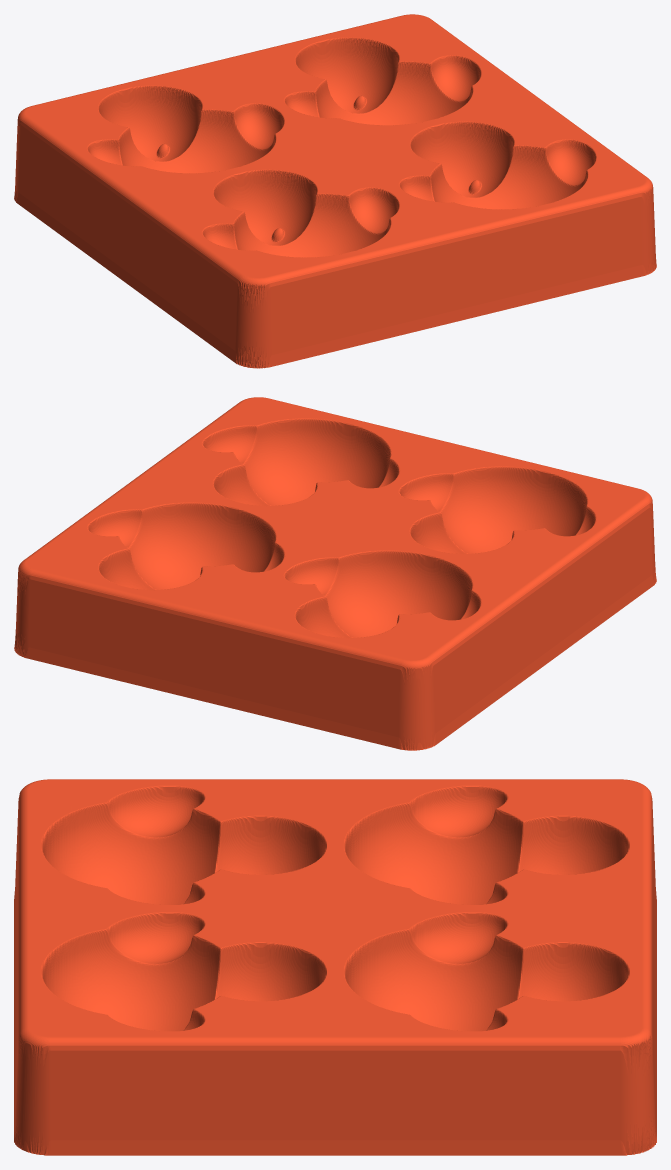
Rendered from mold.glb.
3 views of the same model, one above another, from view 1: azimuth 30°, elevation 25°; view 2: azimuth 150°, elevation 25°; view 3: azimuth 270°, elevation 25° (orthographic). The views are drawn at different scales.
Visible parts, largest first — view 1: geometry_0; view 2: geometry_0; view 3: geometry_0.
Boxes of the visible parts, x1,y1,x2,y2 form: geometry_0: [14, 14, 656, 368]; geometry_0: [14, 397, 656, 750]; geometry_0: [14, 779, 656, 1155].
Bounding box in the file's own units: 0.1585 × 0.031 × 0.1602.
